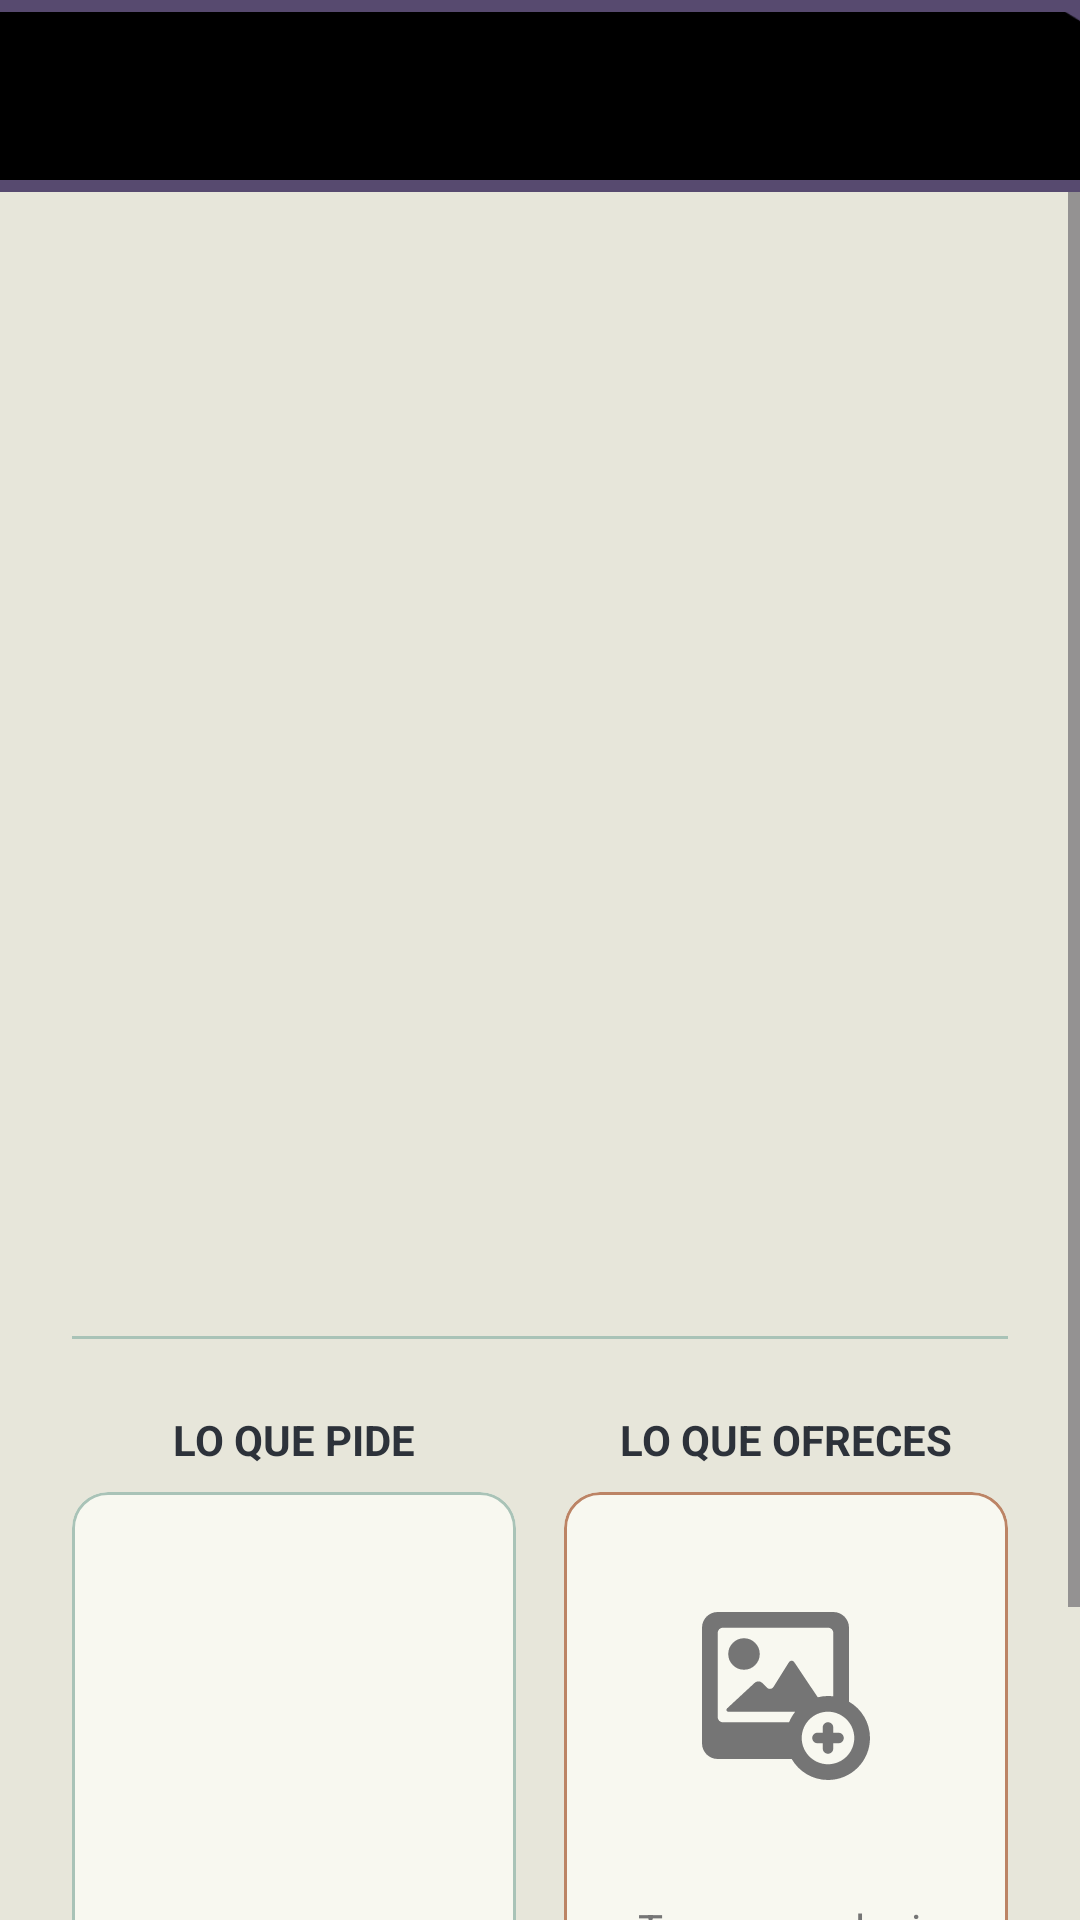

Named icons in this screenshot (1080 x 1920) and their bounding boxes, detection(x1, y1, x2, y2):
add photo: detection(702, 1612, 870, 1780)
